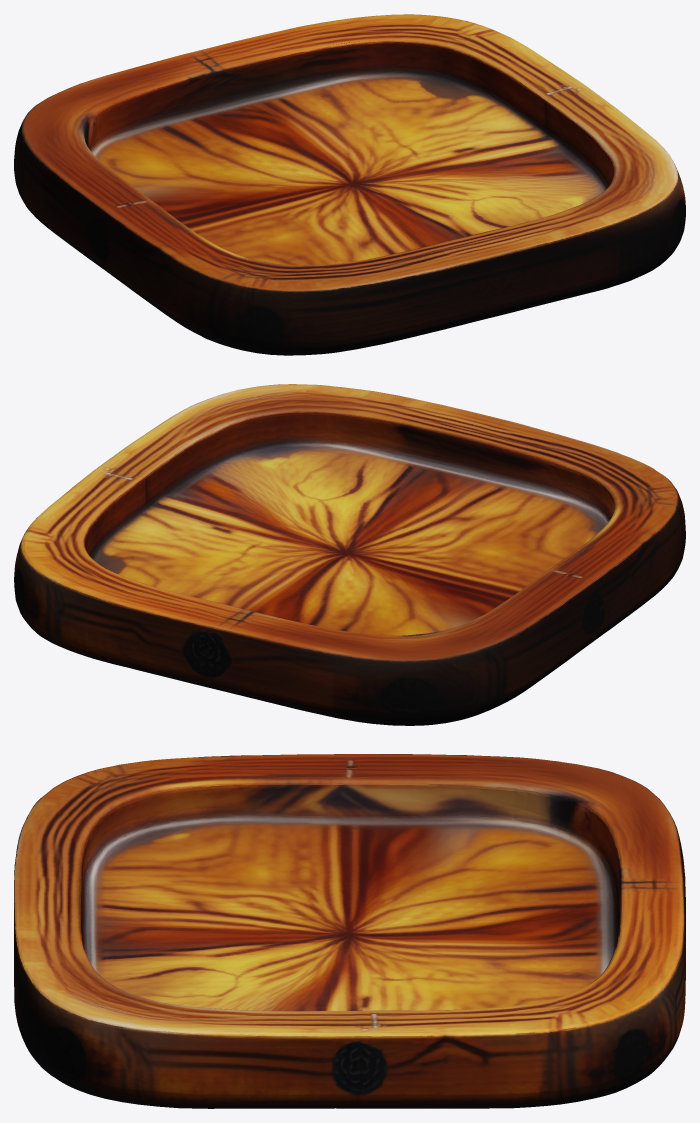
The model's file is wooden-dice-tray-rustic.jpeg.glb.
3 renders of one model, top to bottom at view 1: azimuth 30°, elevation 25°; view 2: azimuth 150°, elevation 25°; view 3: azimuth 270°, elevation 25°, orthographic. The views are drawn at different scales.
Parts seen in each view (by area): view 1: world; view 2: world; view 3: world.
Part boxes in pixels (x1=…): world: x1=14, y1=14, x2=685, y2=355; world: x1=14, y1=384, x2=685, y2=725; world: x1=14, y1=754, x2=685, y2=1108.
Bounding box in the file's own units: 0.9995 × 0.1425 × 0.9998.
Materials: 1 (1 with a texture image).
